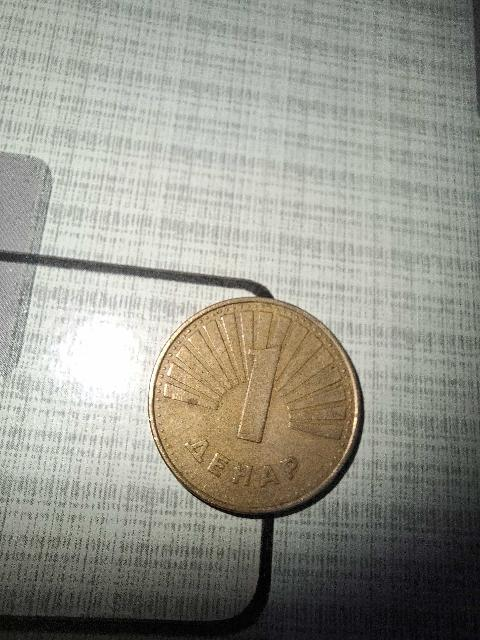1_coin: (149, 297, 361, 515)
